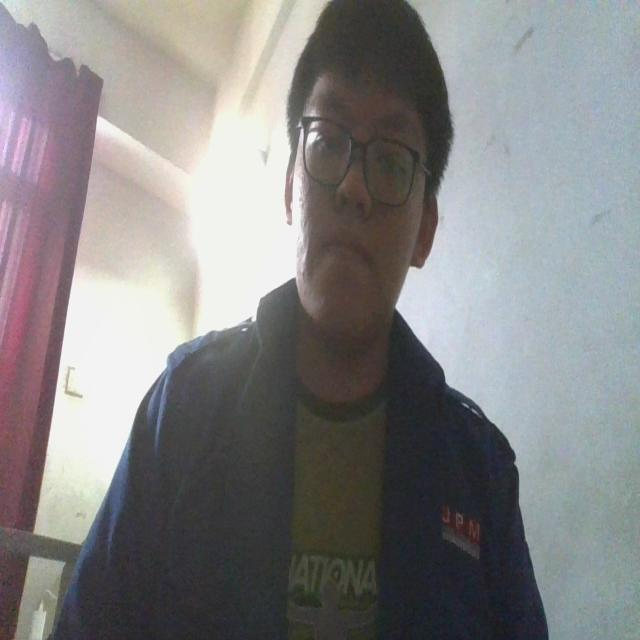person_with_labcoat: (53, 0, 548, 639)
